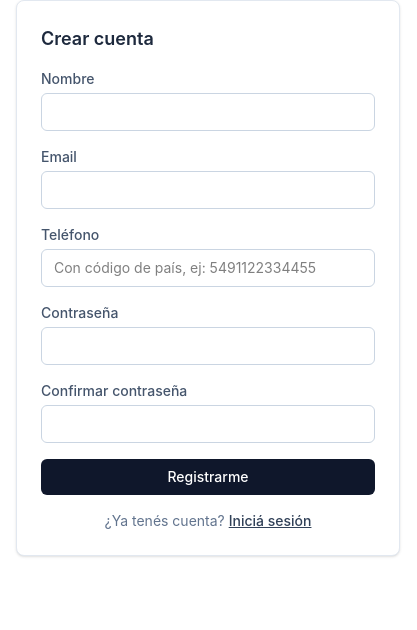
it: Register › muestra error si el teléfono no es válido
The image size is (417, 630).
Type "Test" into the field labelled "Nombre" at {"x": 208, "y": 112}, box left=41, top=93, right=375, bottom=131
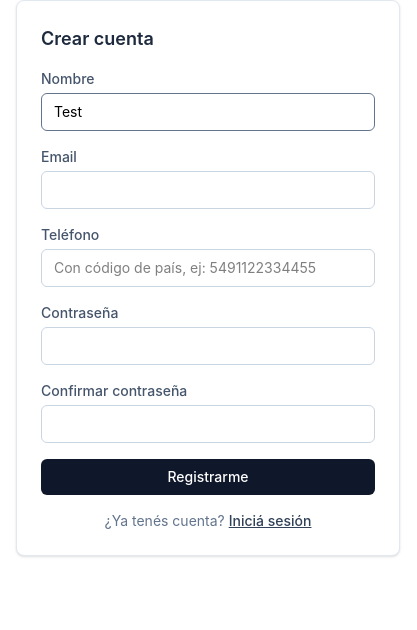
Type "test@example.com" into the field labelled "Email" at {"x": 208, "y": 190}, box left=41, top=171, right=375, bottom=209
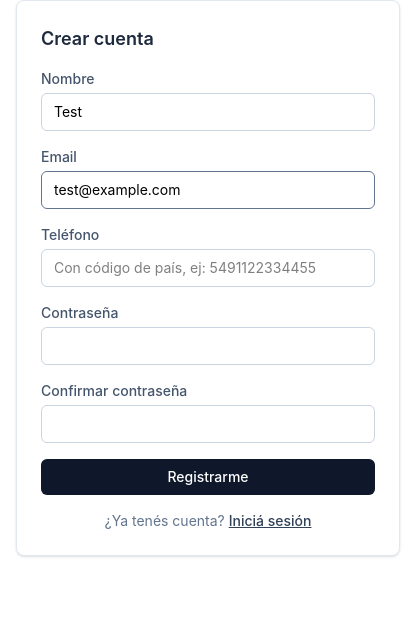
Type "123" into the field labelled "Teléfono" at {"x": 208, "y": 268}, box left=41, top=249, right=375, bottom=287
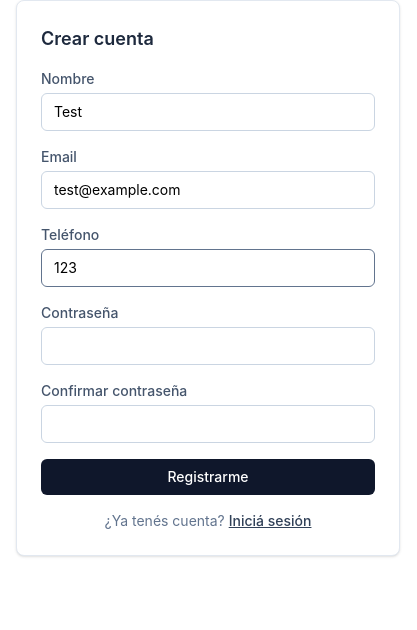
Type "1234" into the password field labelled "Contraseña" at {"x": 208, "y": 346}, box left=41, top=327, right=375, bottom=365
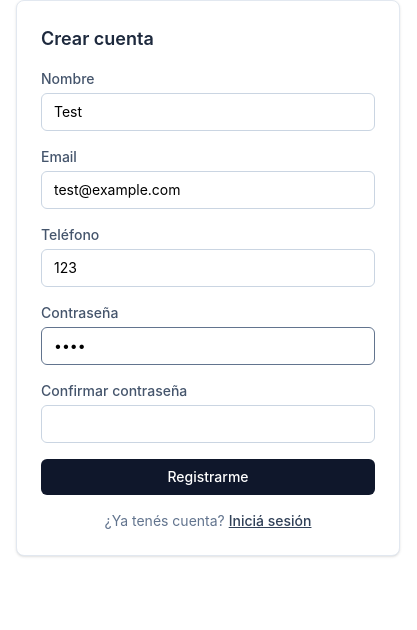
Type "1234" into the password field labelled "Confirmar contraseña" at {"x": 208, "y": 424}, box left=41, top=405, right=375, bottom=443
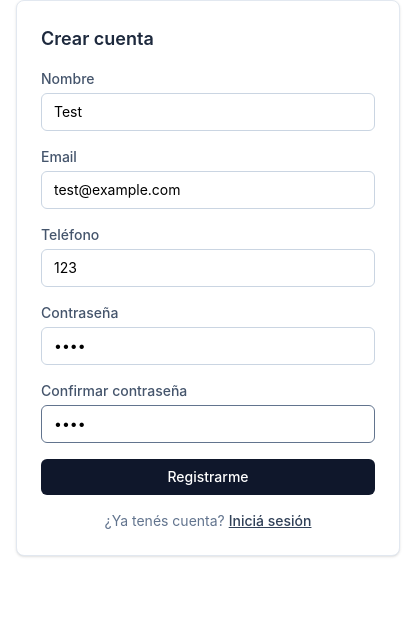
Click the button "Registrarme" at {"x": 208, "y": 477}, box left=41, top=459, right=375, bottom=495
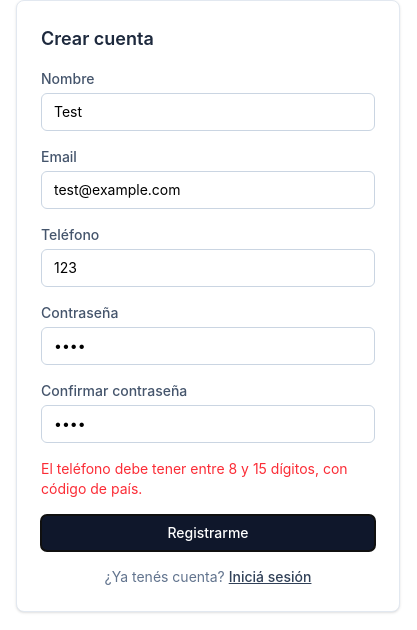
Check: the text "teléfono debe tener entre 8 y 15 dígitos" is shown, box left=41, top=460, right=348, bottom=497
